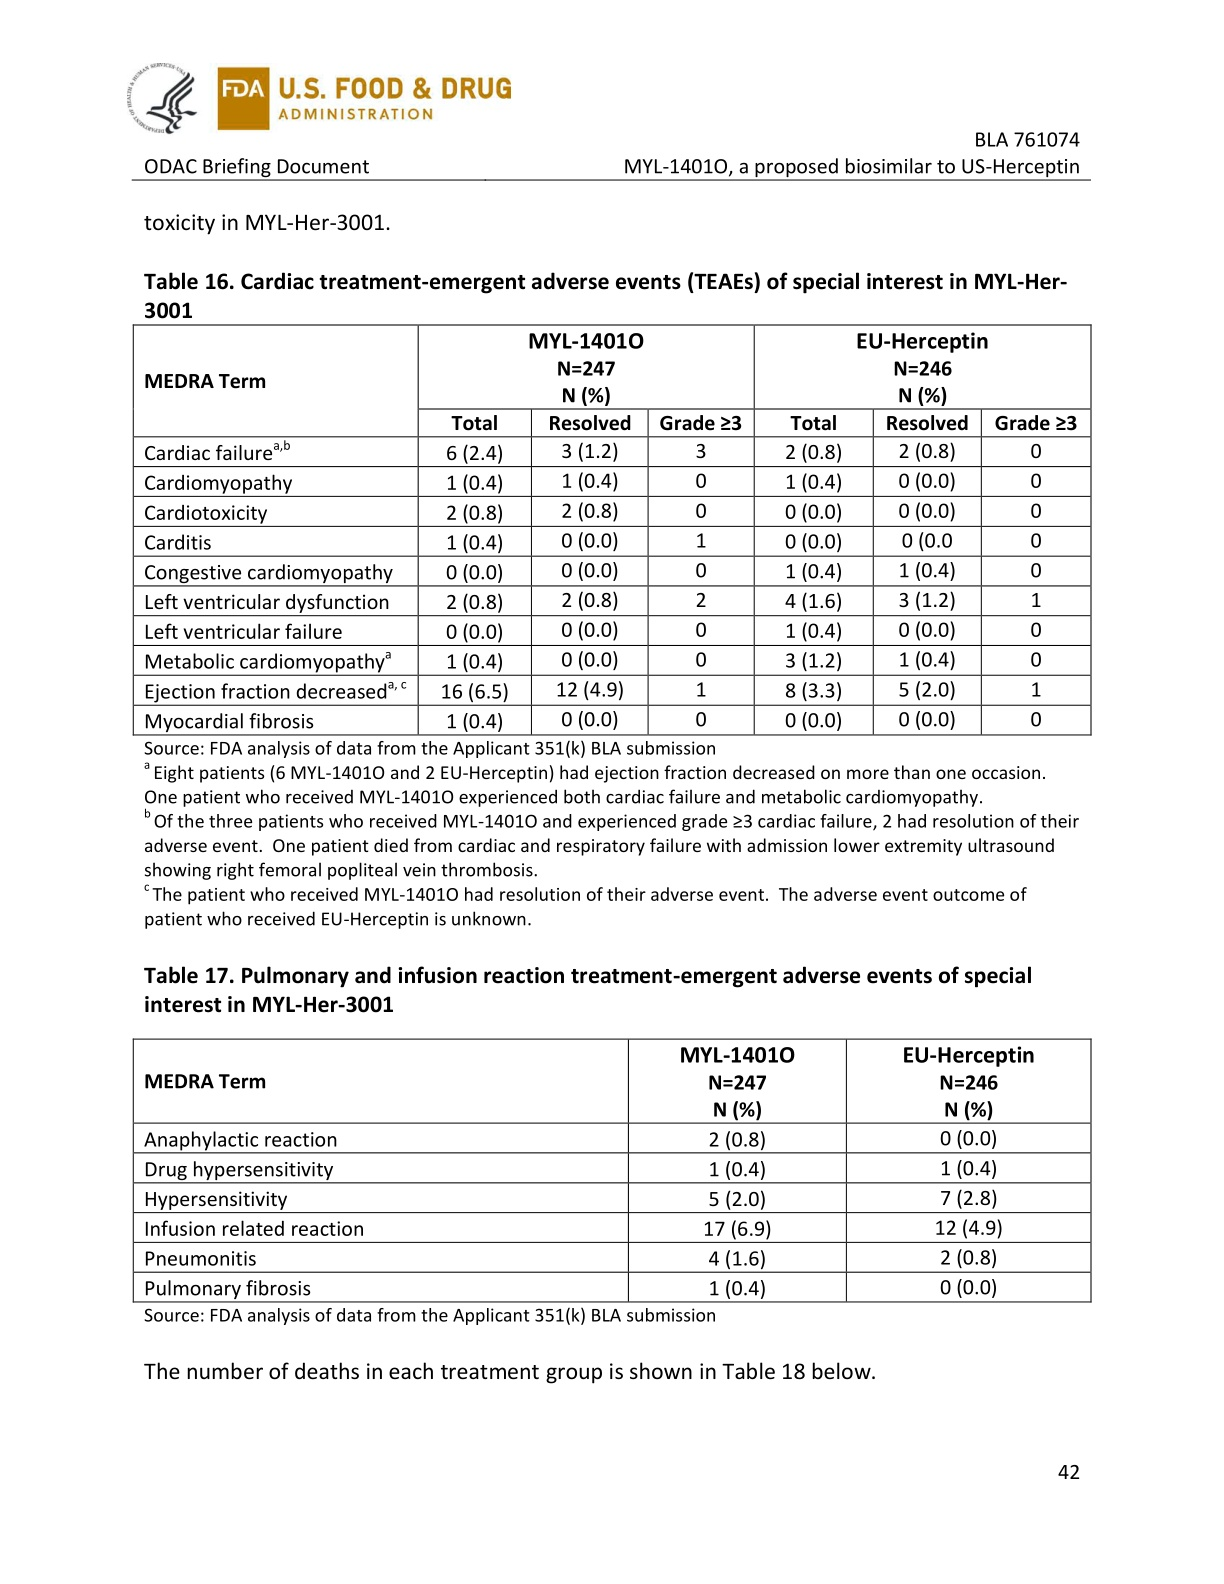full_lined: (132, 1038, 1093, 1304)
merged_cells: (131, 323, 1092, 737)
